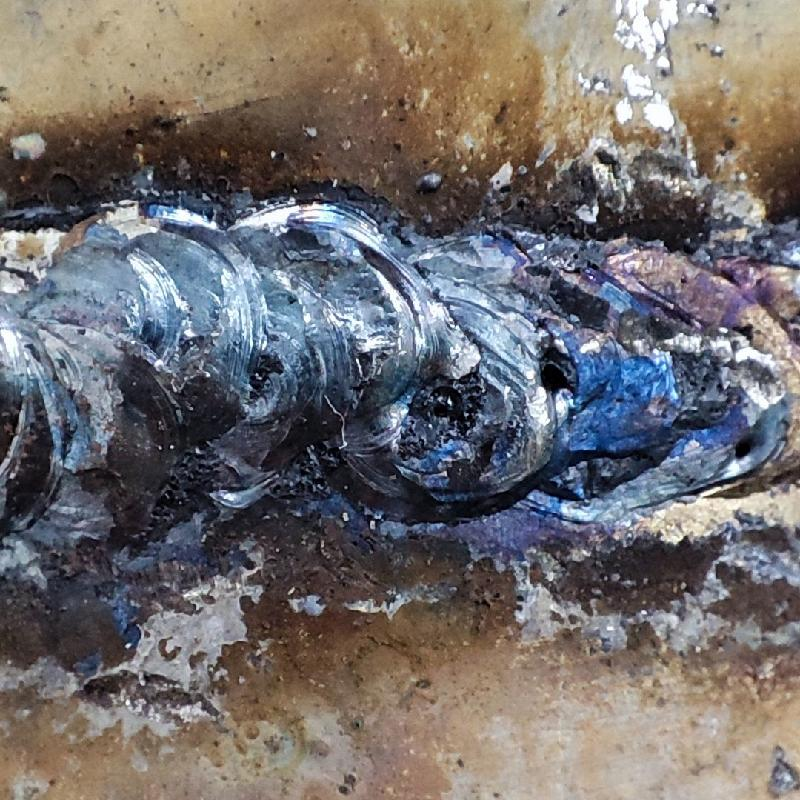Surface_pores: (529, 346, 583, 410), (413, 386, 471, 439)
good: (0, 184, 799, 587)
